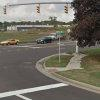Traffic light: (31, 0, 73, 16)
